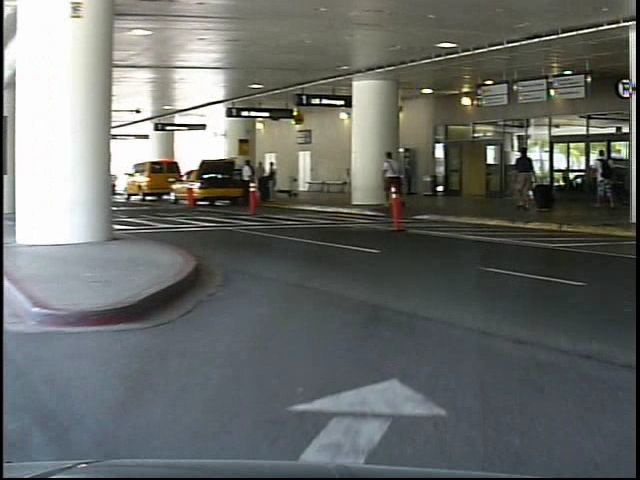person: (515, 142, 543, 210), (382, 147, 408, 213)
